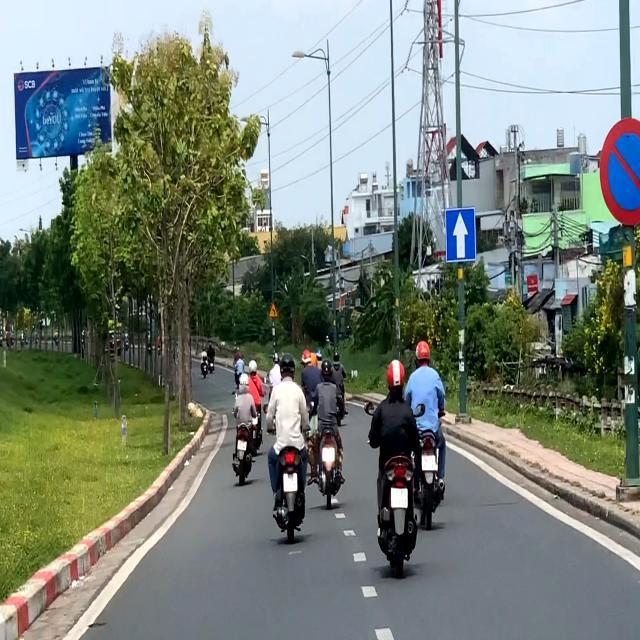Cam do xe: (599, 117, 640, 226)
Duong mot chieu: (444, 205, 477, 263)
cho ngoat nguy hiem vong ben trai: (268, 301, 279, 318)
